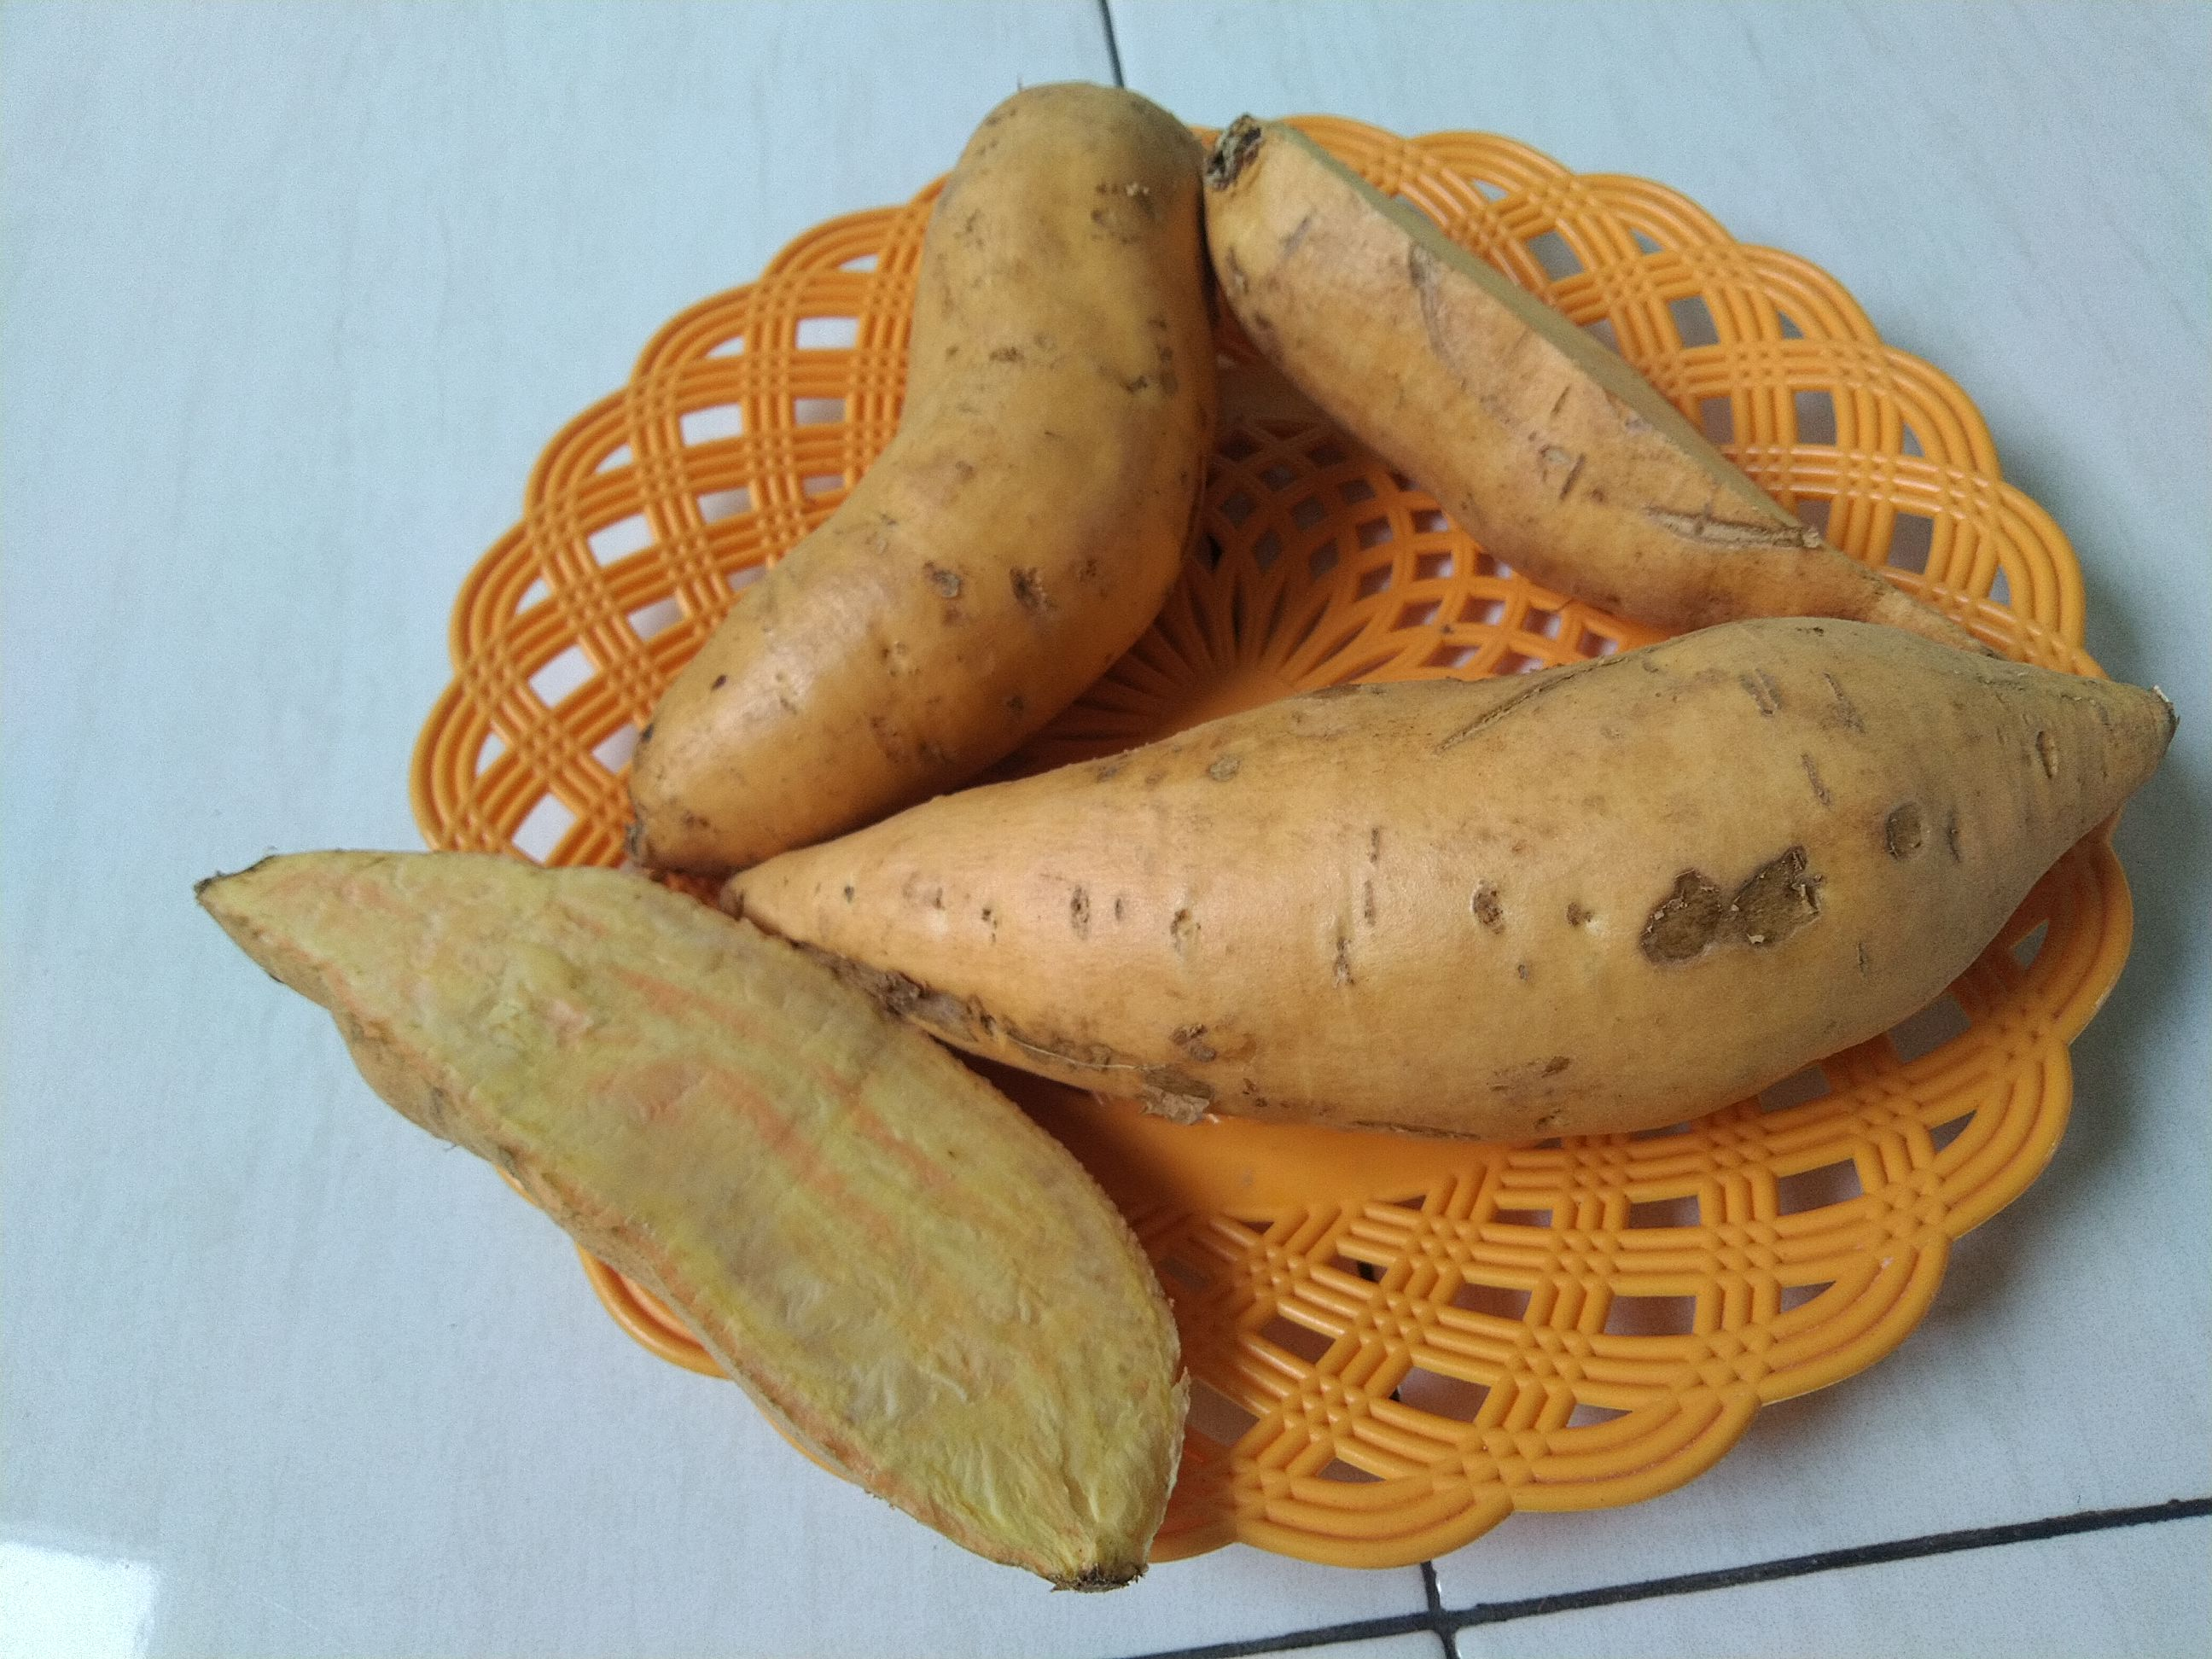ubi cilembu: (160, 842, 1247, 1600), (712, 610, 2188, 1136), (613, 59, 1312, 871), (1207, 106, 2022, 669)
